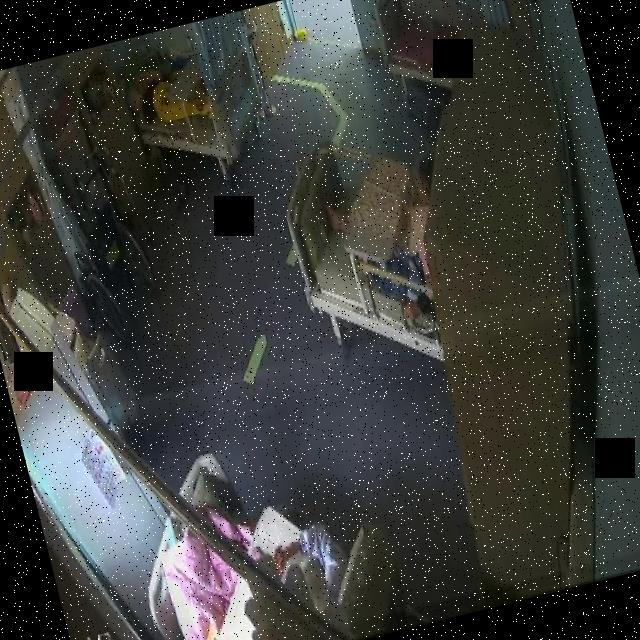bed: (115, 416, 401, 640), (267, 123, 447, 392), (126, 45, 281, 208), (362, 0, 459, 115)
